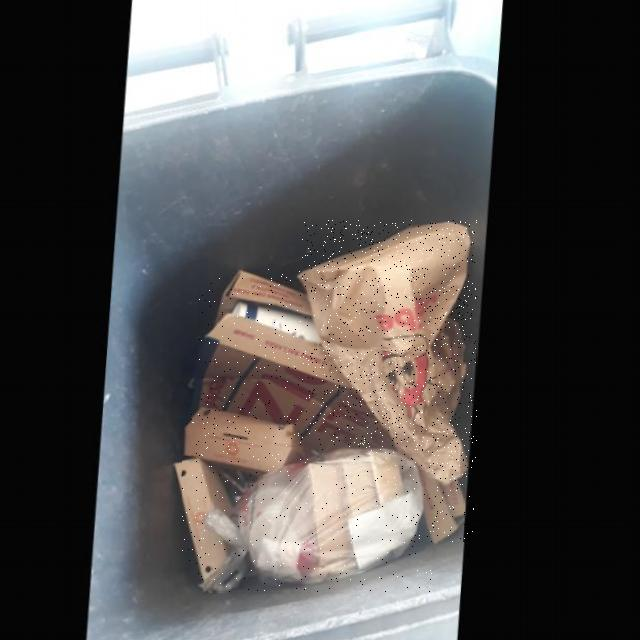paper: (303, 221, 477, 485), (198, 270, 404, 453), (192, 406, 319, 475), (182, 457, 242, 580), (239, 302, 327, 344), (427, 467, 474, 542)
plastic: (213, 447, 432, 592)
